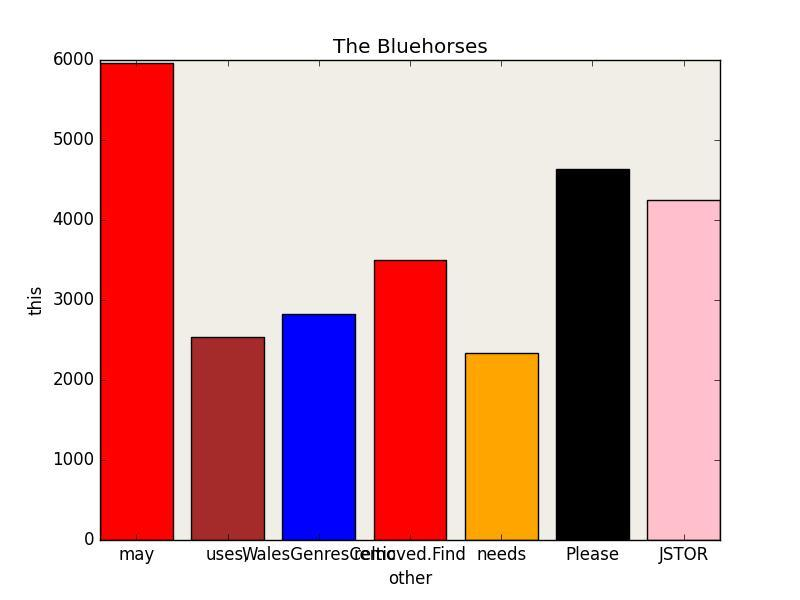axis: (29, 52, 94, 548)
rectangle: (100, 63, 173, 540), (556, 169, 629, 540), (647, 200, 720, 540), (373, 260, 446, 540), (282, 314, 356, 540), (191, 337, 264, 540), (464, 353, 538, 540)
